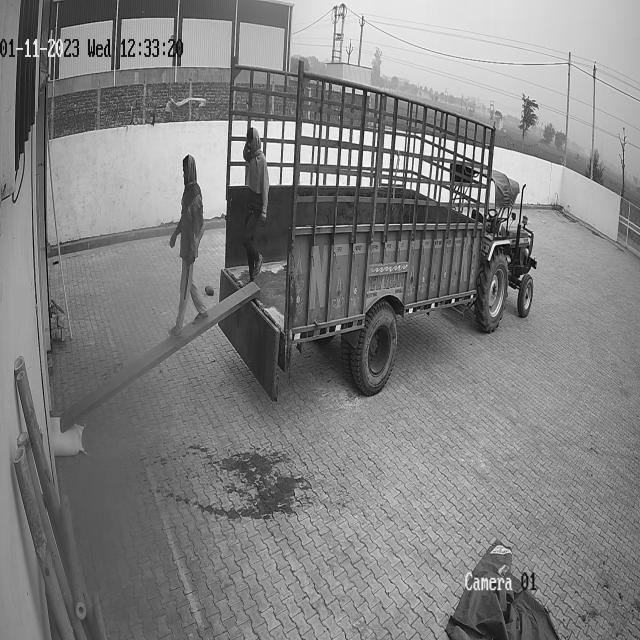sack: (50, 416, 84, 456)
